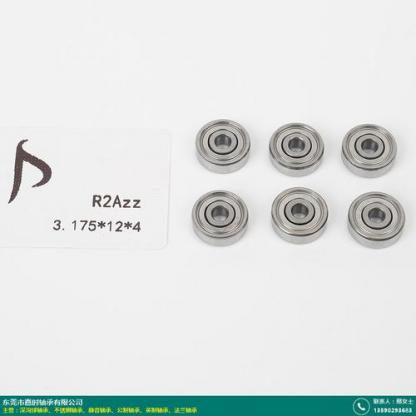FOD: (343, 190, 410, 252), (266, 186, 332, 245), (191, 119, 255, 176), (266, 115, 326, 175), (338, 121, 400, 179), (190, 188, 248, 247)
